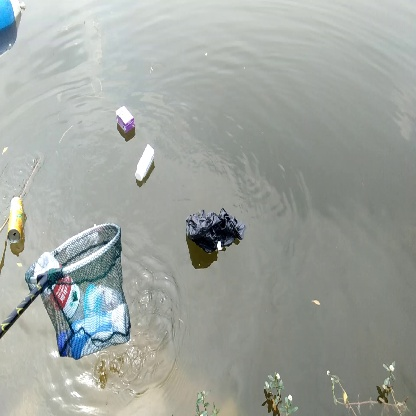bottle: (6, 193, 27, 245)
milk-box: (114, 103, 140, 141)
plastic-bag: (183, 206, 249, 255)
